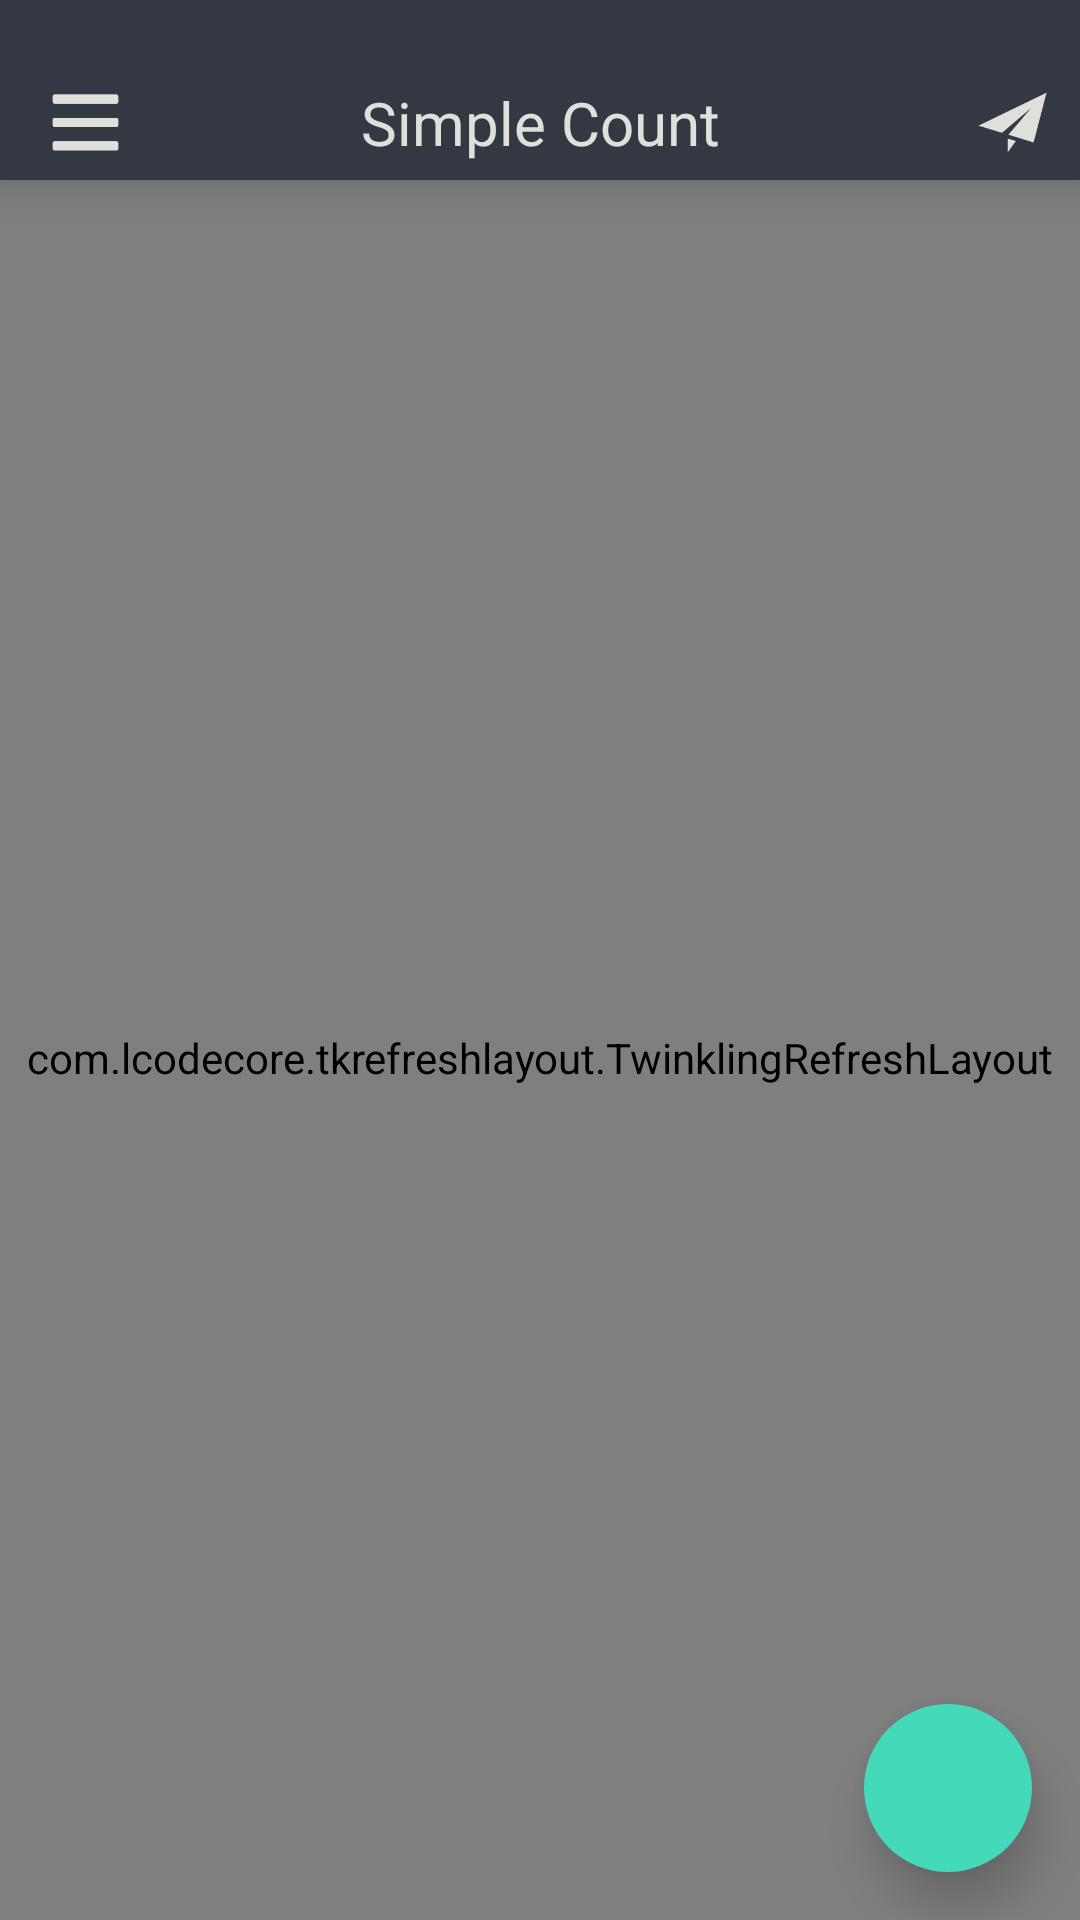

Where icons sit on this 1080px×1920px app screen, as [left=x1, top=y1, right=x2, bottom=y2]:
airplane: [left=978, top=93, right=1047, bottom=152]
menubutton: [left=52, top=94, right=119, bottom=151]
